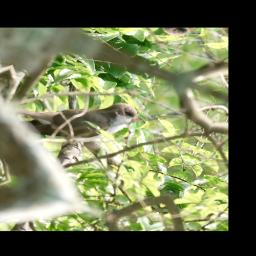Cuckoo: (4, 70, 152, 166)
